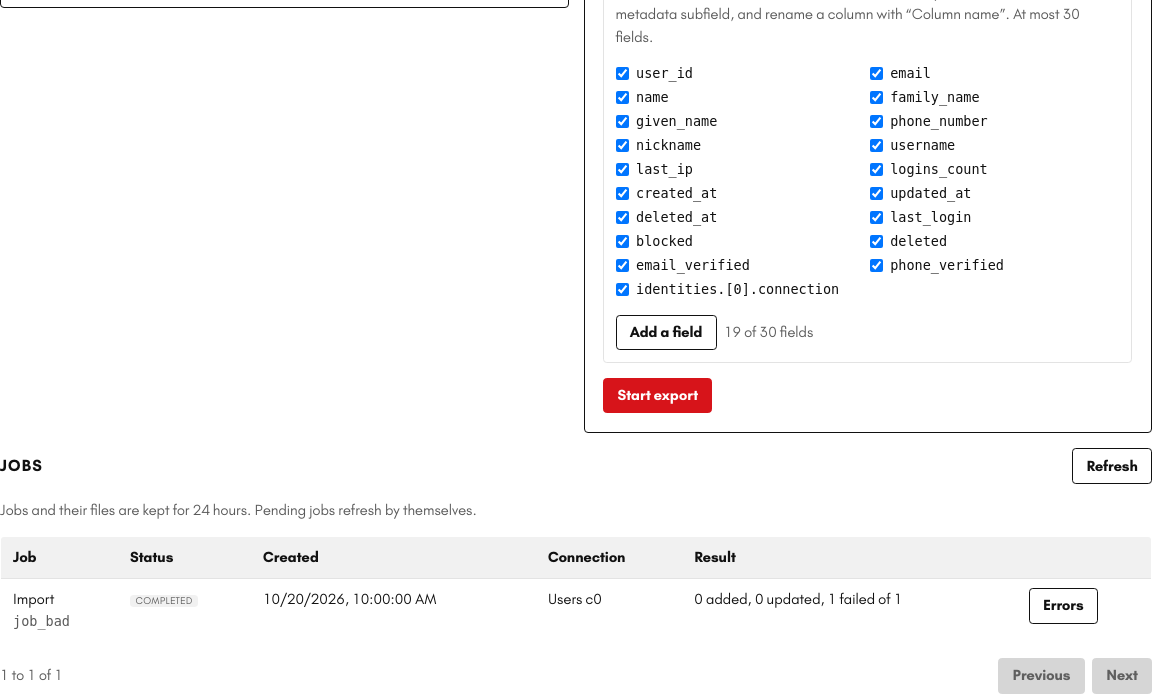
Test case: errors view › shows a failure to read the errors
The image size is (1152, 694).
(page scrolled)
Step 1. Click the button "Errors" → (1063, 606), box [1029, 588, 1098, 624]
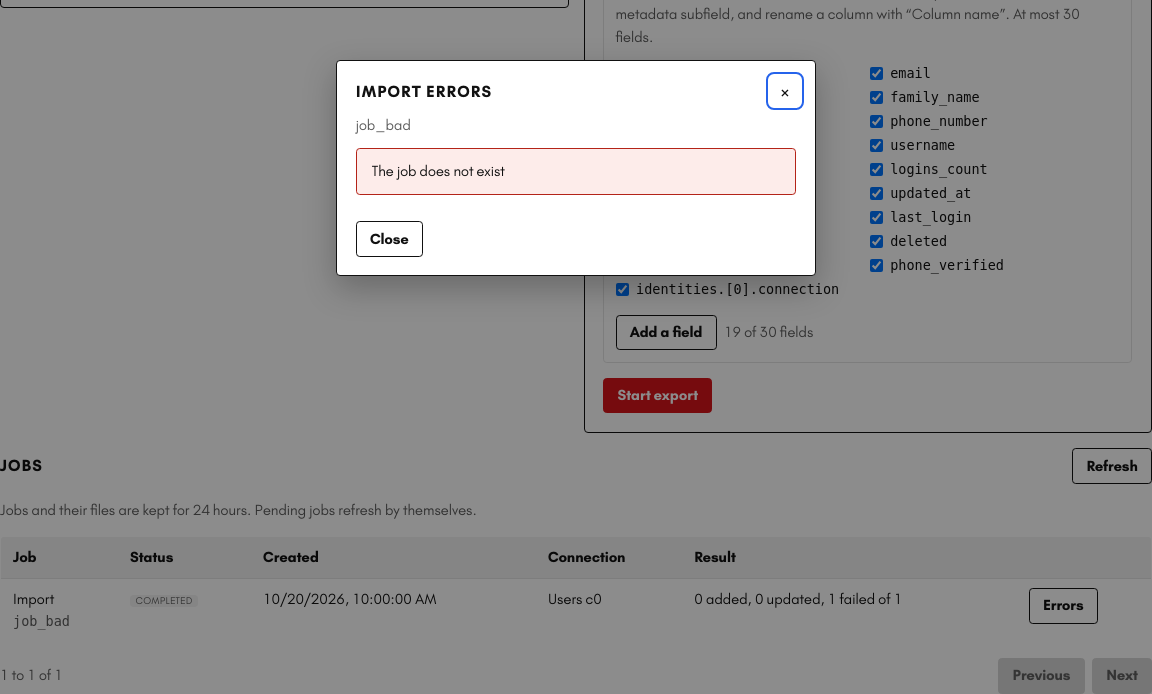
Result: the message "The job does not exist" is shown at [356, 148, 796, 195]
